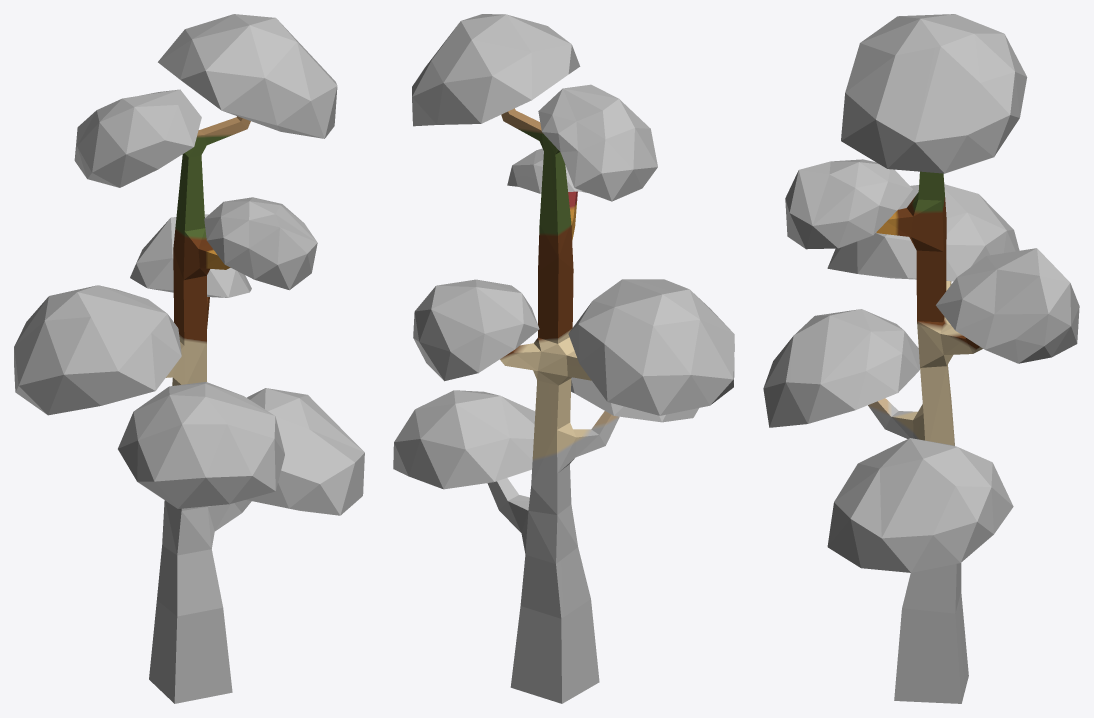
The model's file is Tree_30.fbx.
3 views of the same model, side by side, from view 1: azimuth 30°, elevation 25°; view 2: azimuth 150°, elevation 25°; view 3: azimuth 270°, elevation 25° (orthographic). The views are drawn at different scales.
Visible parts, largest first — view 1: Tree_30; view 2: Tree_30; view 3: Tree_30.
Boxes of the visible parts, x1,y1,x2,y2 form: Tree_30: (14, 14, 364, 703); Tree_30: (393, 14, 734, 703); Tree_30: (763, 14, 1079, 703).
Bounding box in the file's own units: 5.5 × 10.35 × 4.25.
